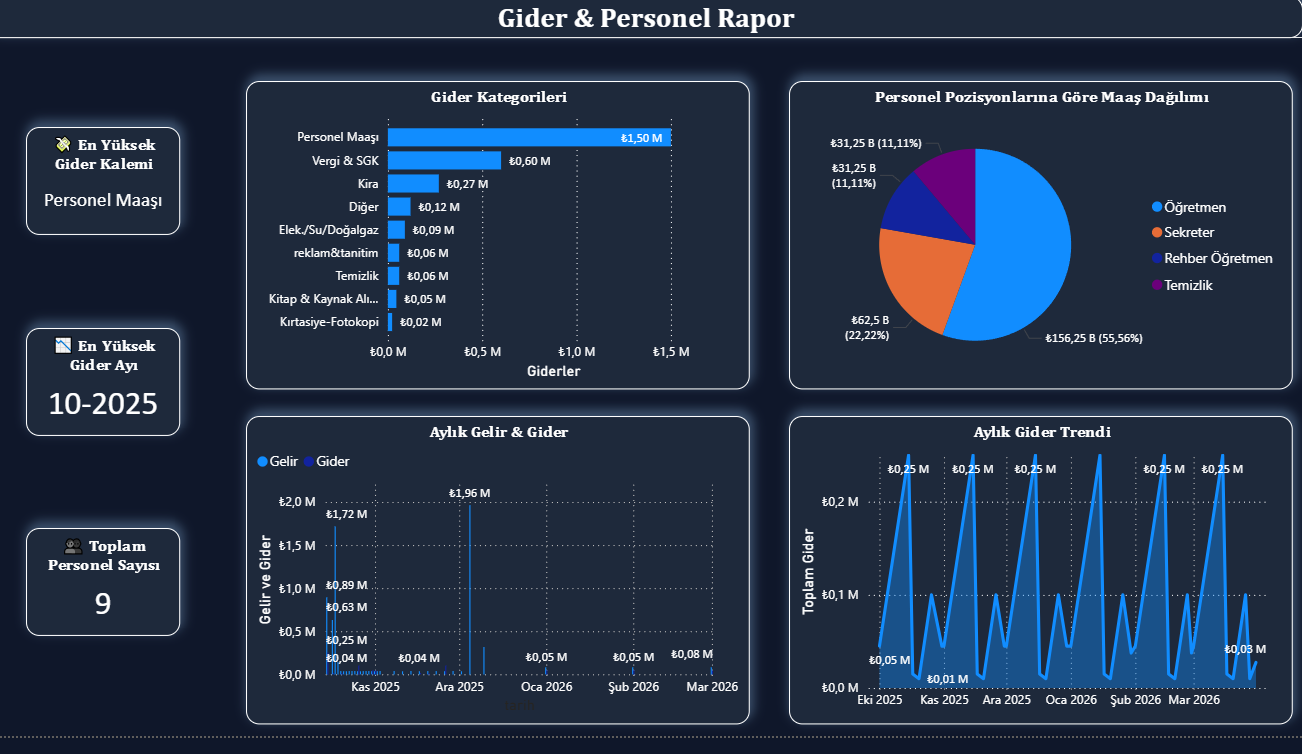

This screenshot's page, from the dashboard's own definition file:
{"tool":"powerbi","page":{"name":"Gider & Personel Analizi","canvas":[1280,720],"ordinal":2},"visuals":[{"type":"card","title":"💸 En Yüksek Gider Kalemi","fields":{"Values":["giderler.En Cok Gider Kalemi"]},"box":[37.9,127.4,149.8,105],"z":0},{"type":"shape","title":"Gider & Personel Rapor","box":[0,0,1280.4,40.8],"z":1000},{"type":"card","title":"👥 Toplam Personel Sayısı","fields":{"Values":["personel.Personel Sayisi"]},"box":[37.9,517.4,149.8,105],"z":2000},{"type":"card","title":"📉 En Yüksek Gider Ayı ","fields":{"Values":["giderler.En Yuksek Aylik Gider"]},"box":[37.9,322.4,149.8,105],"z":3000},{"type":"barChart","title":"Gider Kategorileri ","fields":{"Y":["Sum(giderler.tutar)"],"Category":["giderler.kategori"]},"box":[251.9,82.7,490.2,299.6],"z":4000},{"type":"pieChart","title":"Personel Pozisyonlarına Göre Maaş Dağılımı","fields":{"Category":["personel.pozisyon"],"Y":["Sum(personel.maas)"]},"box":[780.1,82.7,490.2,299.6],"z":5000},{"type":"areaChart","title":" Aylık Gider Trendi ","fields":{"Y":["Sum(giderler.tutar)"],"Category":["giderler.tarih.Varyasyon.Tarih Hiyerarşisi.Yıl","giderler.tarih.Varyasyon.Tarih Hiyerarşisi.Çeyrek","giderler.tarih.Varyasyon.Tarih Hiyerarşisi.Ay","giderler.tarih.Varyasyon.Tarih Hiyerarşisi.Gün"]},"box":[780.1,408.5,490.2,299.6],"z":6000},{"type":"clusteredColumnChart","title":"Aylık Gelir & Gider","fields":{"Category":["gelirler.tarih"],"Y":["Sum(gelirler.tutar)","Sum(giderler.tutar)"]},"box":[251.9,408.5,490.2,299.6],"z":7000}]}

Visuals, with their boxes in screenshot pixels (x1, y1, x2, y2), scaled from the page's 1280x720 canvas onto the 1302x754 screenshot:
"💸 En Yüksek Gider Kalemi" card: box=[39, 133, 191, 243]
"Gider & Personel Rapor" shape: box=[0, 0, 1301, 43]
"👥 Toplam Personel Sayısı" card: box=[39, 542, 191, 652]
"📉 En Yüksek Gider Ayı " card: box=[39, 338, 191, 448]
"Gider Kategorileri " barChart: box=[256, 87, 755, 400]
"Personel Pozisyonlarına Göre Maaş Dağılımı" pieChart: box=[794, 87, 1292, 400]
" Aylık Gider Trendi " areaChart: box=[794, 428, 1292, 742]
"Aylık Gelir & Gider" clusteredColumnChart: box=[256, 428, 755, 742]
